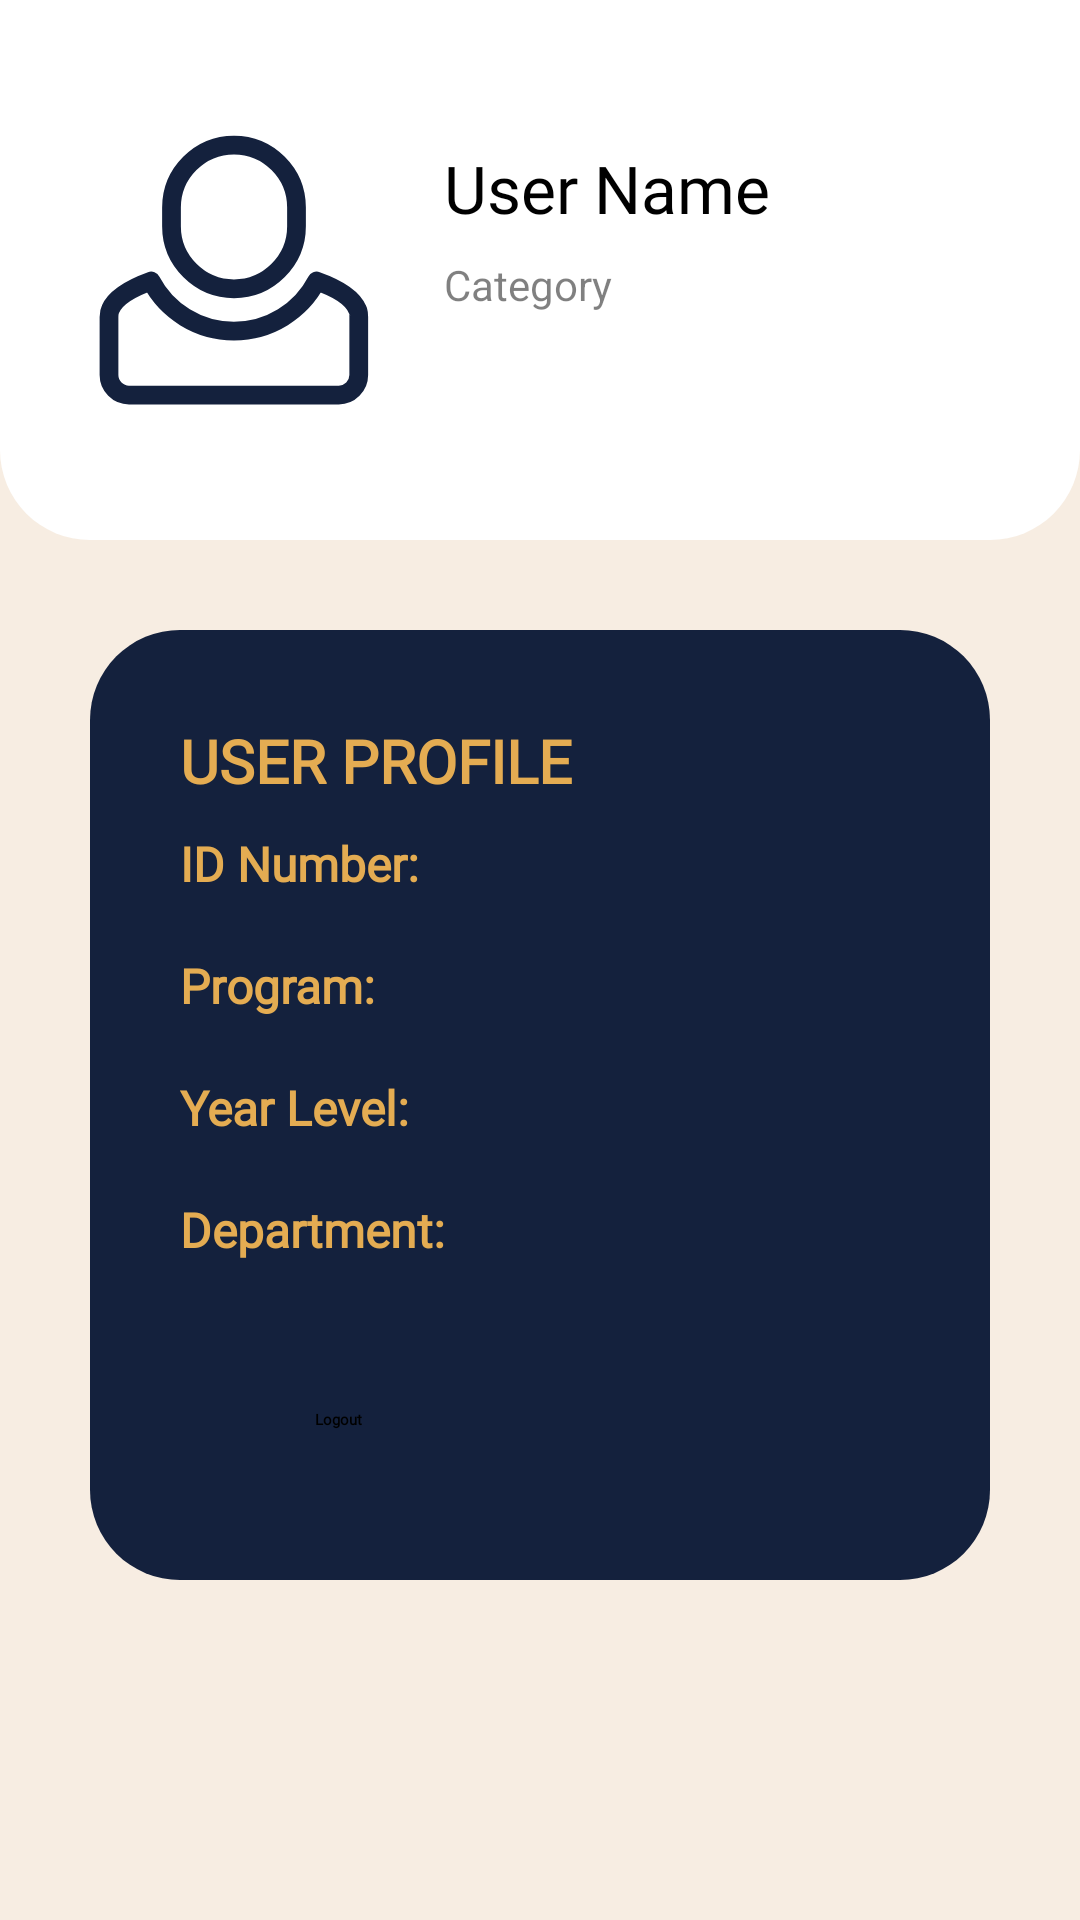

Named icons in this screenshot (1080 x 1920) and their centers, (x,y):
profile: (234,270)
